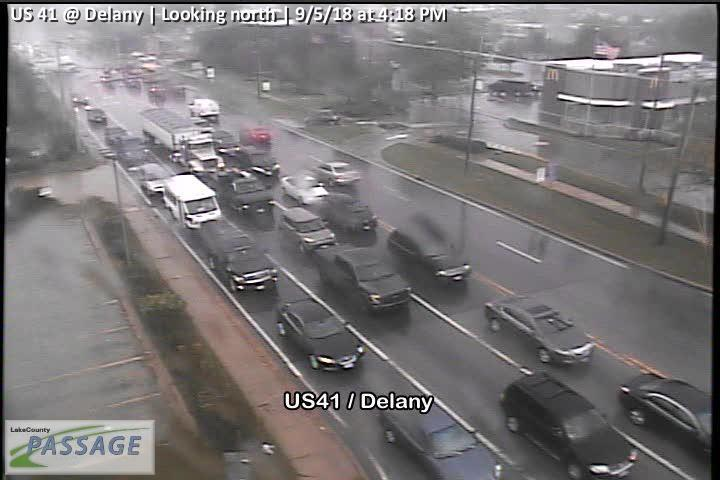SUV: (501, 370, 640, 480), (388, 217, 475, 287), (205, 232, 278, 294), (139, 163, 171, 195), (117, 136, 147, 169), (186, 97, 222, 120)
Sedan: (378, 395, 505, 480), (618, 371, 720, 464), (483, 292, 599, 370), (276, 298, 365, 372), (278, 205, 335, 257), (222, 172, 278, 217), (325, 193, 378, 234), (282, 173, 330, 207), (310, 160, 362, 189), (240, 148, 281, 181), (212, 128, 243, 157), (239, 125, 273, 149), (104, 122, 127, 144), (86, 108, 109, 128), (304, 113, 342, 125), (147, 83, 166, 97), (72, 93, 89, 105)
Truck: (312, 243, 414, 317), (140, 107, 223, 173), (163, 172, 223, 228)
